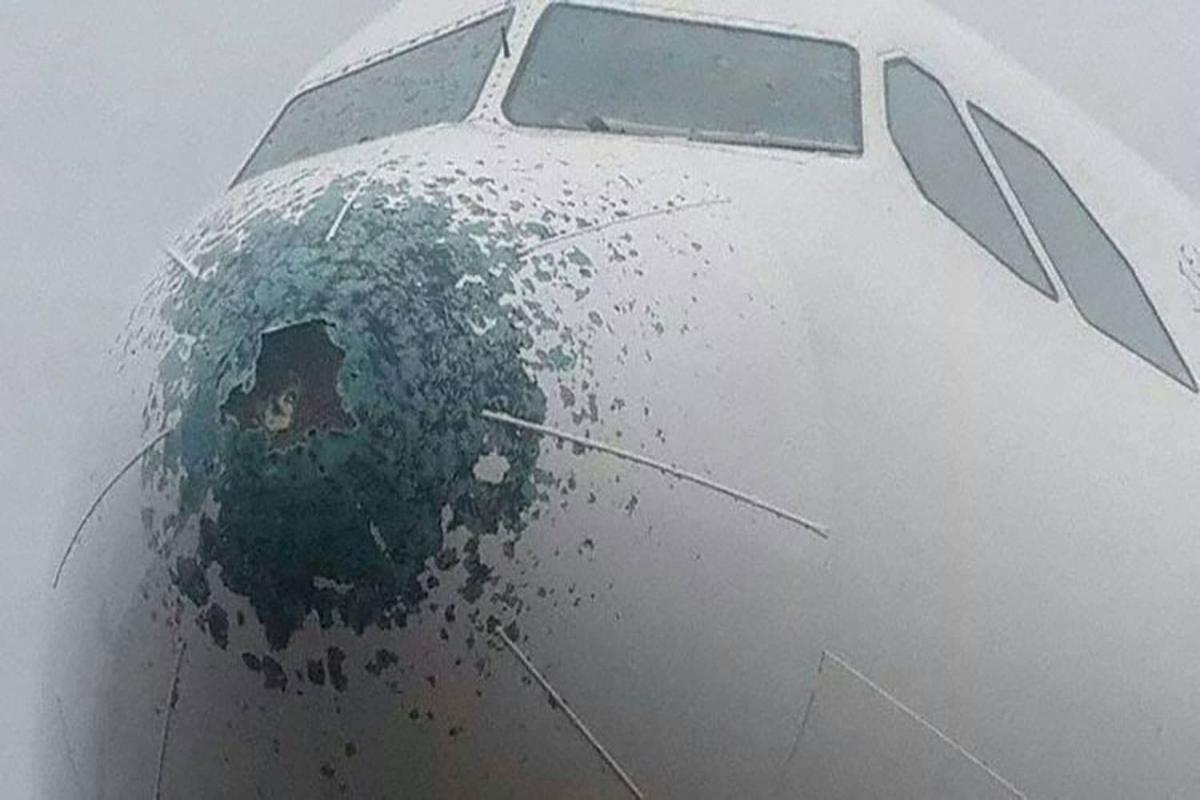Fuselage_damage: (106, 137, 715, 745)
